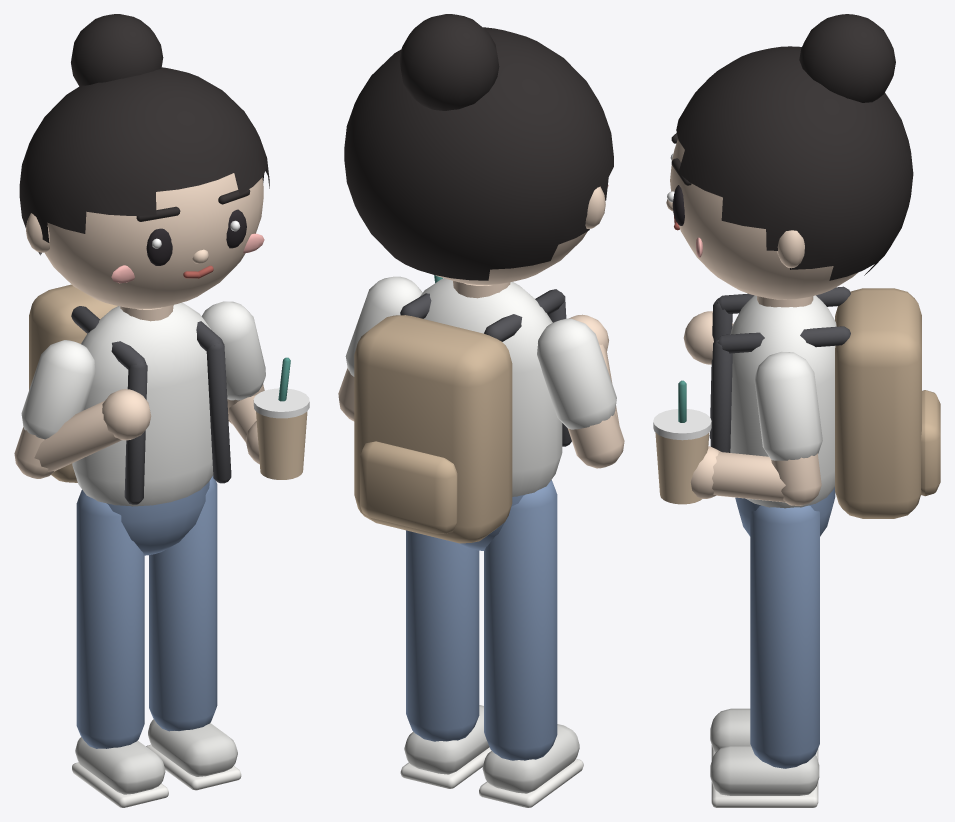
Rendered from Customer_Bun.fbx.
The picture shows the model from 3 angles, left to right: view 1: azimuth 30°, elevation 25°; view 2: azimuth 150°, elevation 25°; view 3: azimuth 270°, elevation 25°; orthographic projection. The views are drawn at different scales.
Visible parts, largest first — view 1: Head.003, Body.003, Leg_L.003, Leg_R.003, Arm_L.003, Arm_R.003; view 2: Head.003, Body.003, Leg_L.003, Leg_R.003, Arm_L.003, Arm_R.003; view 3: Head.003, Body.003, Leg_R.003, Arm_R.003, Leg_L.003, Arm_L.003.
Boxes of the visible parts, box(x1,y1,x2,y2) form: Head.003: box(19, 14, 269, 309); Body.003: box(29, 284, 231, 555); Leg_L.003: box(72, 490, 168, 807); Leg_R.003: box(146, 475, 241, 790); Arm_L.003: box(14, 340, 151, 478); Arm_R.003: box(201, 301, 309, 479); Head.003: box(344, 14, 613, 285); Body.003: box(354, 278, 571, 550); Leg_L.003: box(479, 480, 583, 807); Leg_R.003: box(400, 530, 491, 788); Arm_L.003: box(537, 314, 624, 468); Arm_R.003: box(338, 275, 442, 421); Head.003: box(666, 14, 913, 299); Body.003: box(709, 286, 940, 536); Leg_R.003: box(710, 505, 819, 807); Arm_R.003: box(653, 351, 822, 505); Leg_L.003: box(710, 708, 818, 760); Arm_L.003: box(683, 311, 733, 364).
Size of the model in its own units: 0.4889 by 1.35 by 0.462.
